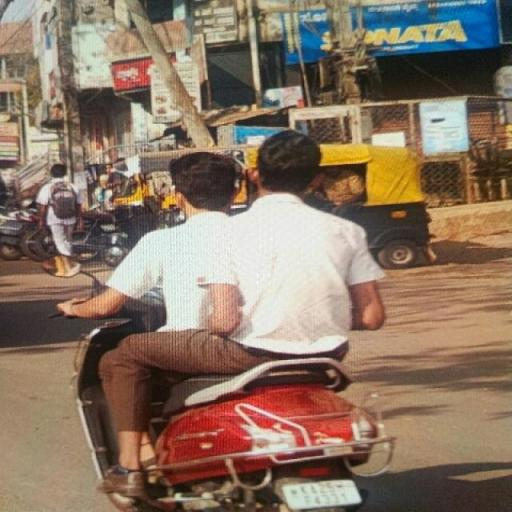bike: (44, 125, 407, 512)
withouthelmet: (258, 131, 320, 192), (172, 154, 238, 210)
